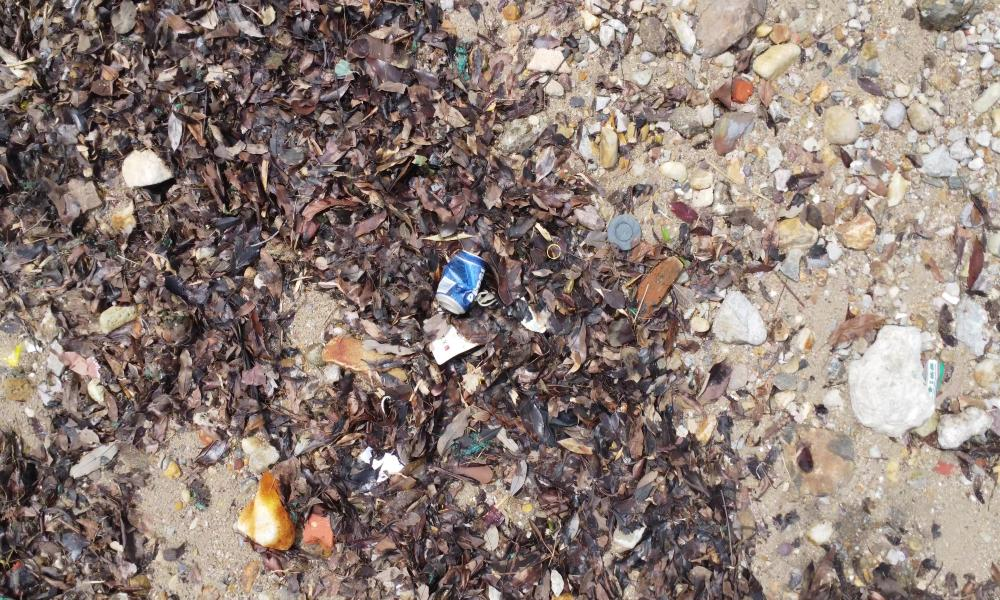can: (439, 252, 484, 312)
